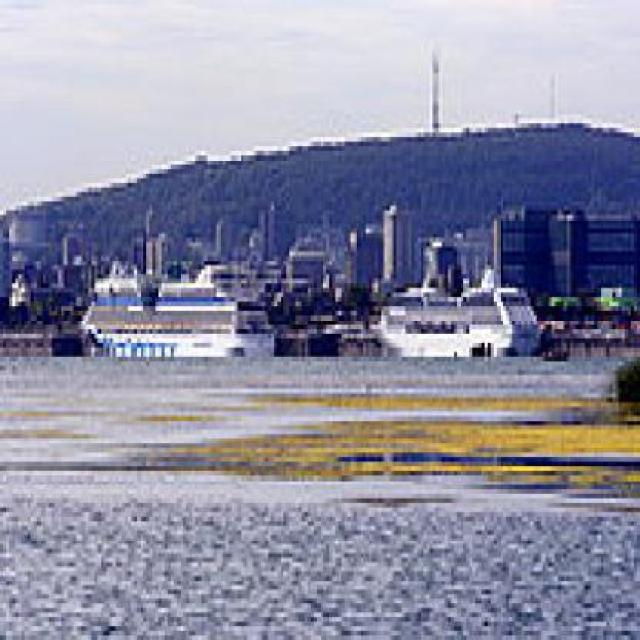cruise: (74, 253, 291, 376)
